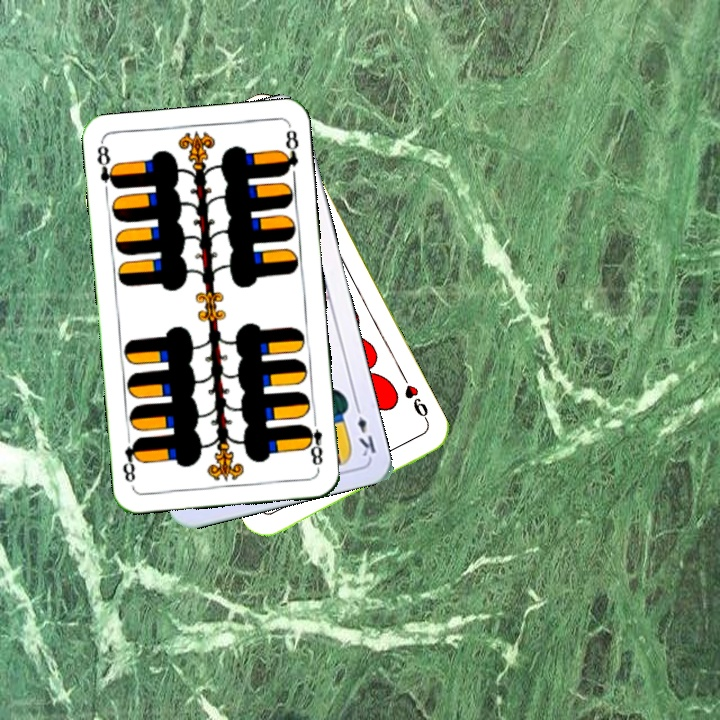E8: (301, 412, 325, 471), (93, 140, 120, 192)
EK: (351, 400, 379, 459)
H9: (399, 372, 433, 428)
